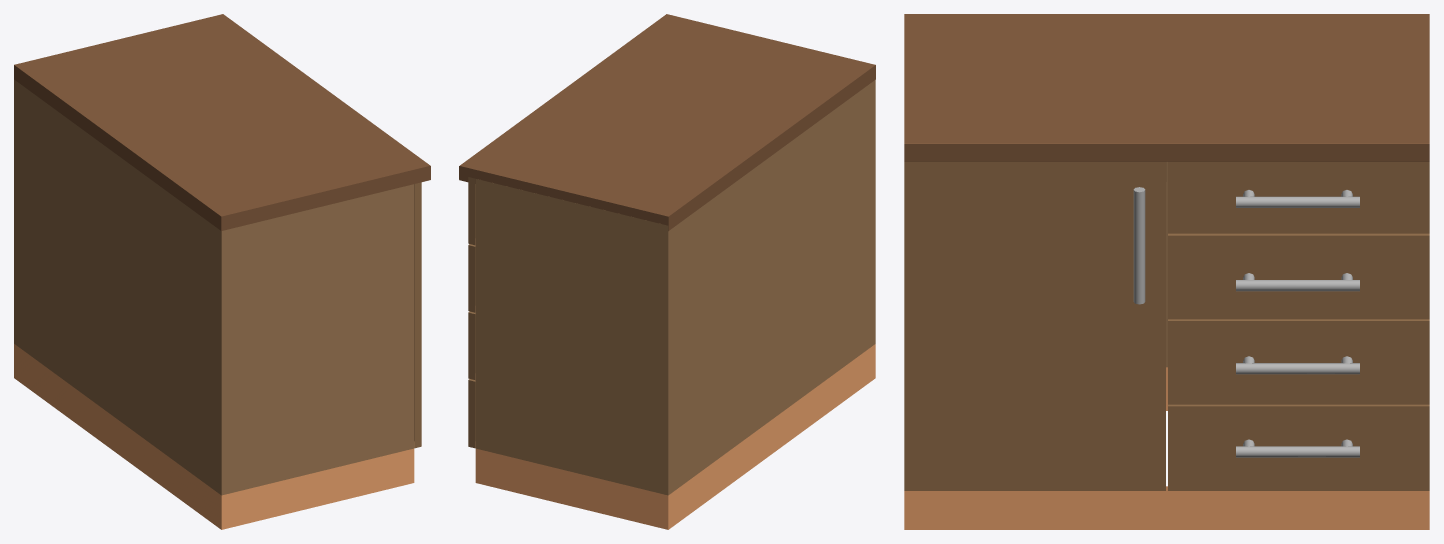
Rendered from modular_kitchen_table_1.FBX.
3 views of the same model, side by side, from view 1: azimuth 30°, elevation 25°; view 2: azimuth 150°, elevation 25°; view 3: azimuth 270°, elevation 25° (orthographic). The views are drawn at different scales.
Parts seen in each view (by area): view 1: modular_kitchen_table_1; view 2: modular_kitchen_table_1; view 3: modular_kitchen_table_1.
Part boxes in pixels (x1,y1,x2,y2): modular_kitchen_table_1: (14, 14, 430, 529); modular_kitchen_table_1: (459, 14, 875, 529); modular_kitchen_table_1: (904, 14, 1429, 529).
Bounding box in the file's own units: 0.6217 × 0.8567 × 1.03.
